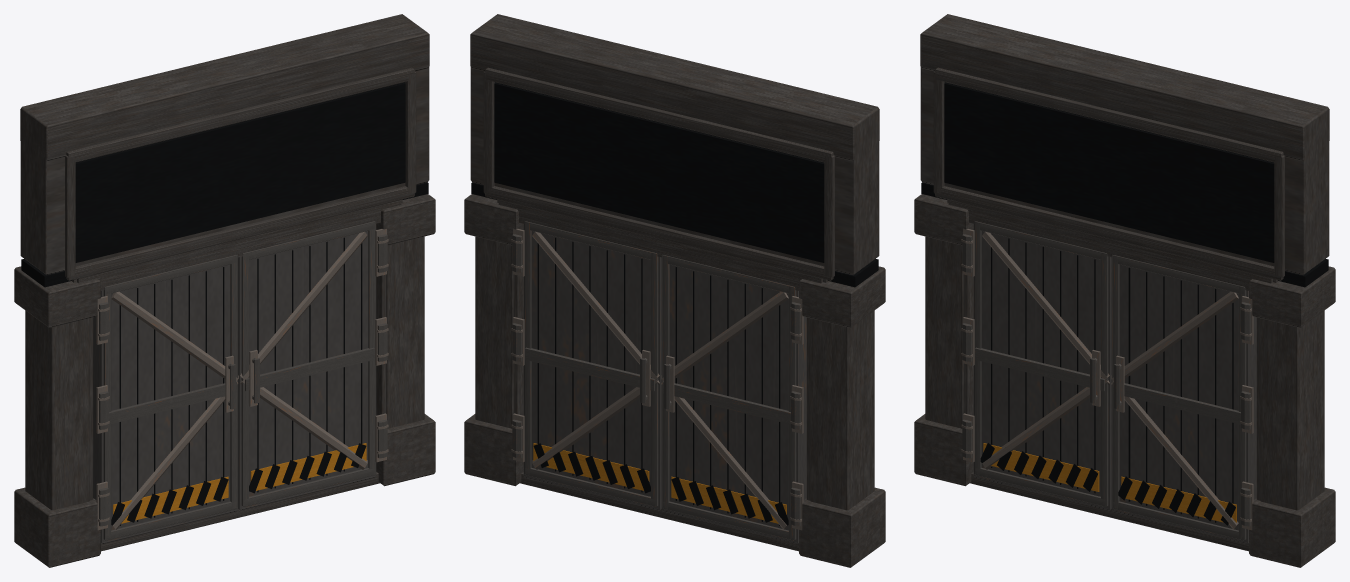
File: main_gate_lowpoly.glb
3 renders of one model, left to right at view 1: azimuth 30°, elevation 25°; view 2: azimuth 150°, elevation 25°; view 3: azimuth 330°, elevation 25°, orthographic.
Parts seen in each view (by area): view 1: Main Frame, Right Leaf, Left Leaf; view 2: Main Frame, Right Leaf, Left Leaf; view 3: Main Frame, Left Leaf, Right Leaf.
Part boxes in pixels (box(x1,y1,x2,y2)): Main Frame: box(14, 14, 435, 567); Right Leaf: box(238, 221, 388, 510); Left Leaf: box(93, 255, 238, 543); Main Frame: box(464, 14, 885, 567); Right Leaf: box(511, 221, 661, 510); Left Leaf: box(661, 255, 806, 543); Main Frame: box(914, 14, 1335, 567); Left Leaf: box(961, 221, 1111, 510); Right Leaf: box(1111, 255, 1256, 543).
Bounding box in the file's own units: 9.68 × 10.47 × 1.8.
6 materials, 6 textured.
